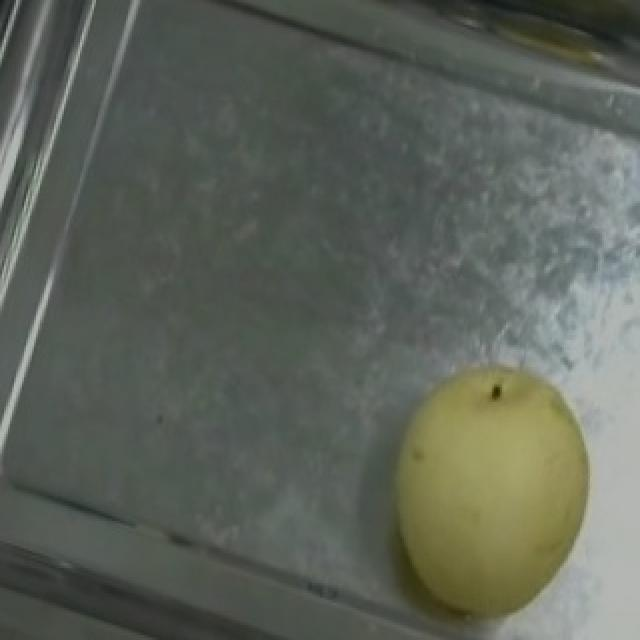Fruit: (338, 325, 632, 640)
